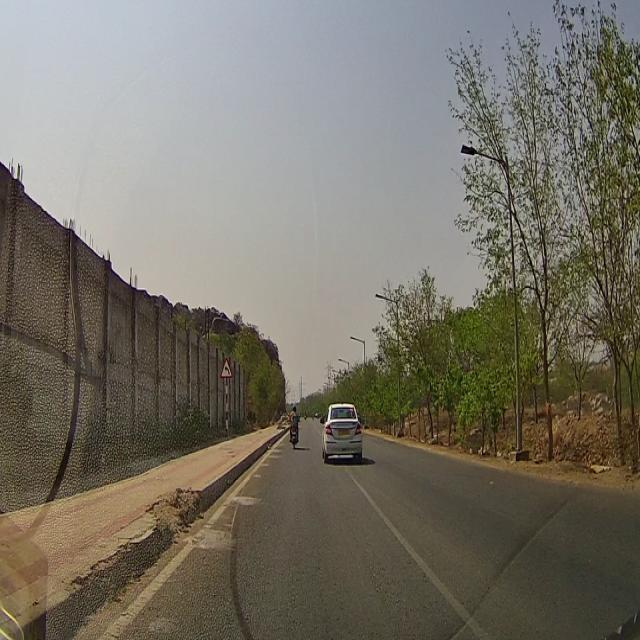left-hand-curve: (220, 356, 232, 377)
